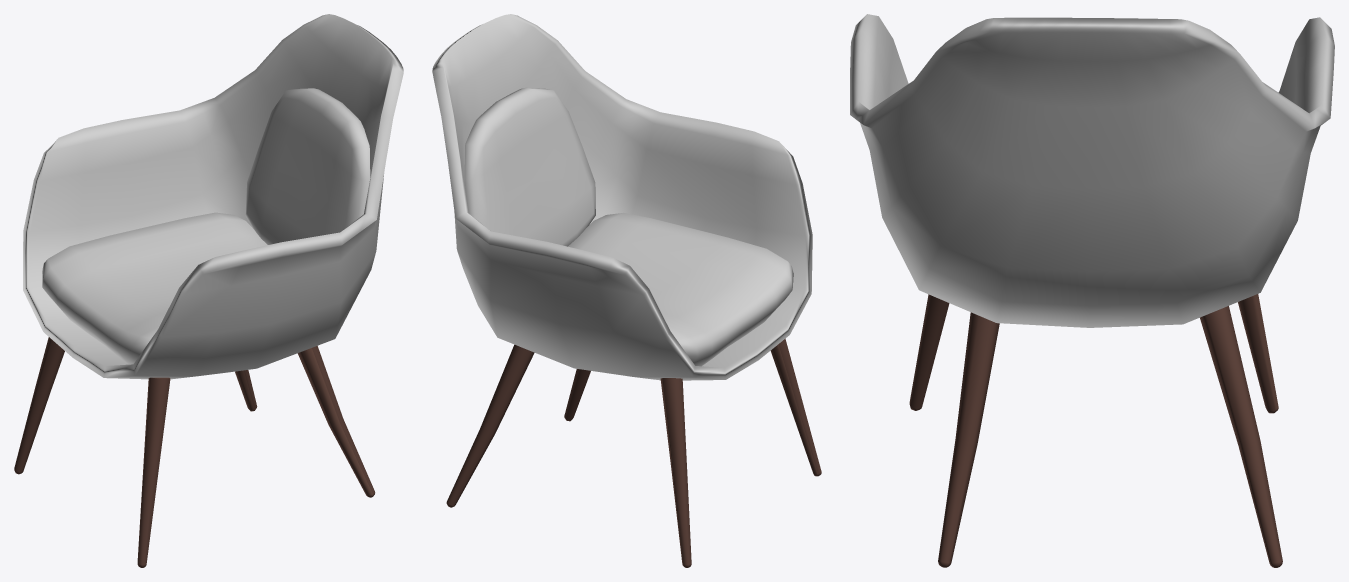
Rendered from Study_Chair.fbx.
3 renders of one model, left to right at view 1: azimuth 30°, elevation 25°; view 2: azimuth 150°, elevation 25°; view 3: azimuth 270°, elevation 25°, orthographic. The views are drawn at different scales.
Parts seen in each view (by area): view 1: Study_Chair; view 2: Study_Chair; view 3: Study_Chair.
Part boxes in pixels (<box>): Study_Chair: <box>14,14,403,567</box>; Study_Chair: <box>432,14,821,567</box>; Study_Chair: <box>850,14,1334,567</box>.
Bounding box in the file's own units: 102 × 135 × 101.
